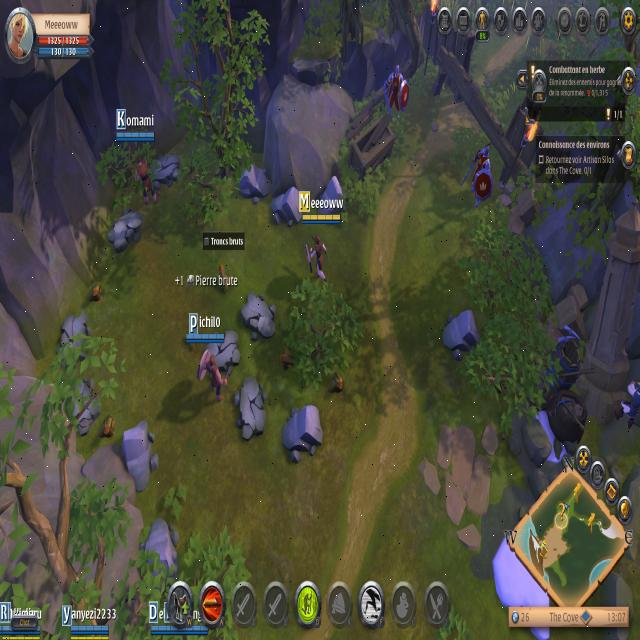broken stone: (232, 374, 272, 449), (53, 309, 93, 367), (238, 287, 278, 343), (106, 202, 146, 258), (68, 374, 100, 437), (205, 322, 242, 376), (146, 149, 183, 190)
stone: (118, 418, 162, 500), (137, 512, 180, 594), (280, 402, 327, 469), (439, 303, 482, 367), (269, 176, 304, 233), (237, 157, 272, 206), (318, 172, 348, 226)
